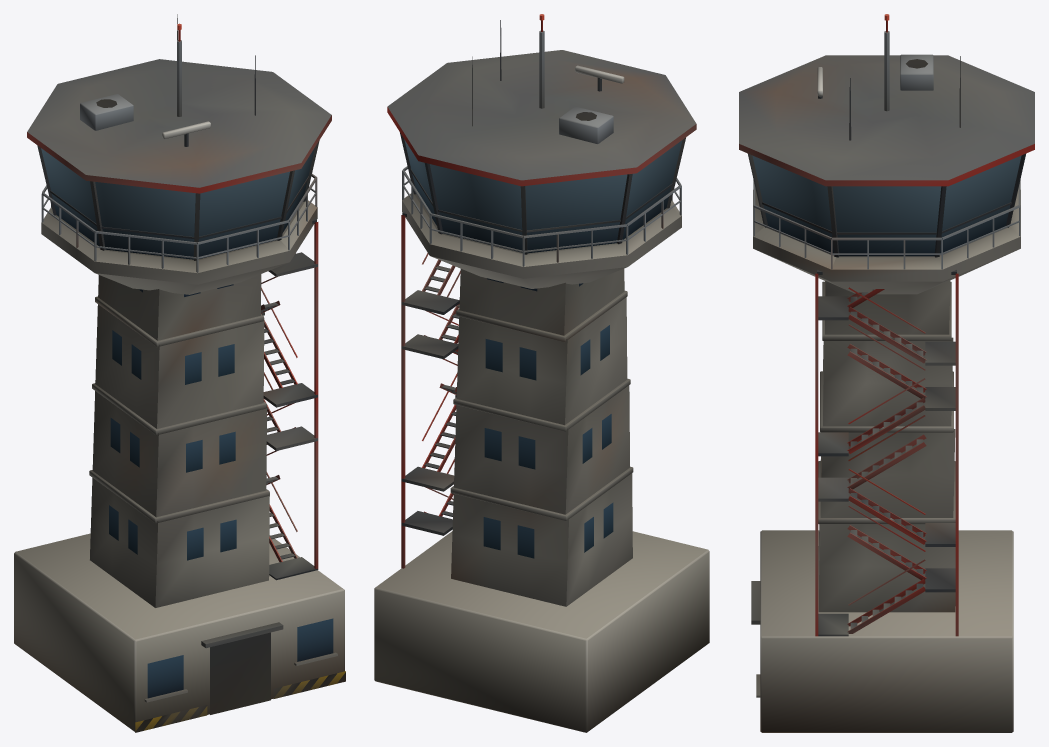
File: control_tower.glb
3 views of the same model, side by side, from view 1: azimuth 30°, elevation 25°; view 2: azimuth 150°, elevation 25°; view 3: azimuth 270°, elevation 25° (orthographic). The views are drawn at different scales.
Parts seen in each view (by area): view 1: ControlTower; view 2: ControlTower; view 3: ControlTower.
Boxes of the visible parts, bbox=[...] form: ControlTower: bbox=[14, 14, 345, 732]; ControlTower: bbox=[374, 14, 709, 732]; ControlTower: bbox=[739, 14, 1034, 732].
Size of the model in its own units: 8.87 by 22 by 8.87.
